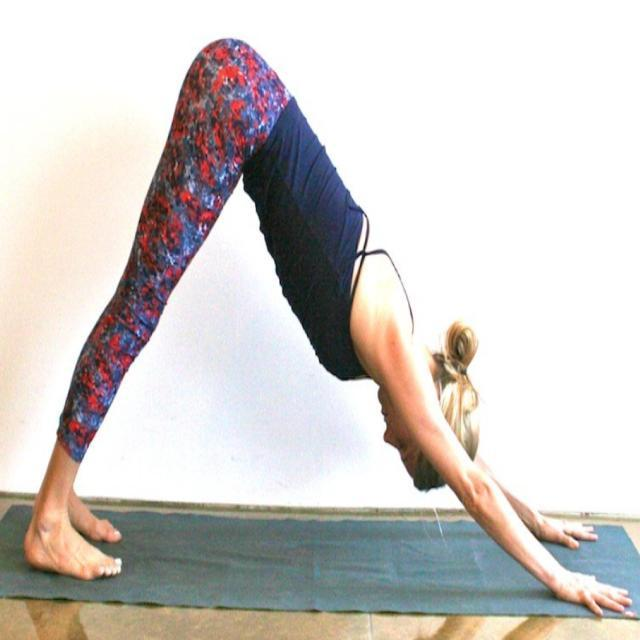Downward-Facing_Dog: (18, 30, 635, 621)
